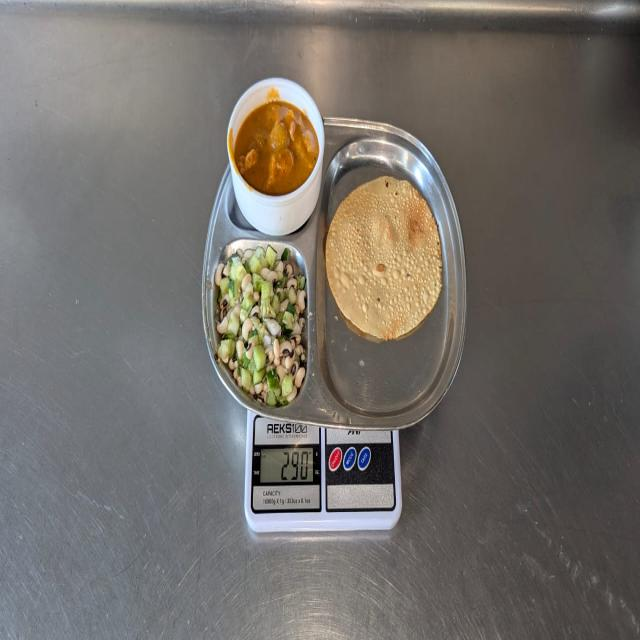Chaat: (212, 244, 310, 412)
Chicken Curry: (234, 97, 321, 196)
Papad: (322, 170, 446, 348)
